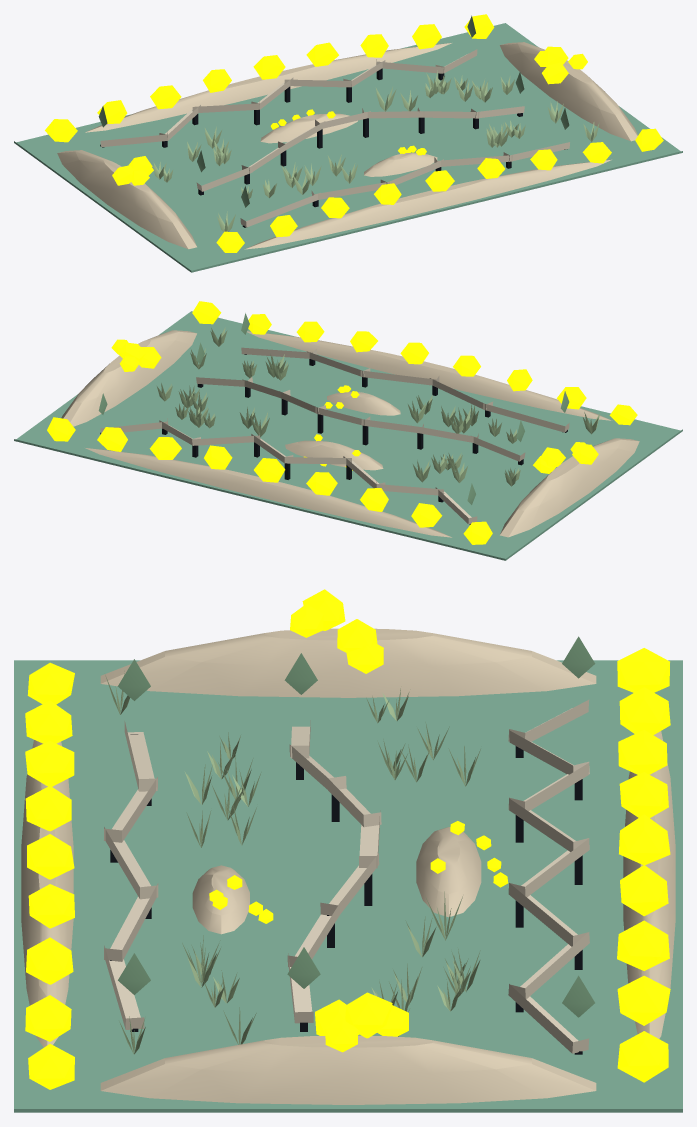
The picture shows the model from 3 angles, top to bottom: view 1: azimuth 30°, elevation 25°; view 2: azimuth 150°, elevation 25°; view 3: azimuth 270°, elevation 25°; orthographic projection. The views are drawn at different scales.
Parts seen in each view (by area): view 1: Safety_Pad, Terrain, Foliage, Balance_Beam, Grass_Tufts, Balance_Beam_Posts, Balance_Beam_Crests; view 2: Safety_Pad, Terrain, Foliage, Balance_Beam, Grass_Tufts, Balance_Beam_Posts, Balance_Beam_Crests; view 3: Safety_Pad, Terrain, Foliage, Balance_Beam, Grass_Tufts, Balance_Beam_Crests, Balance_Beam_Posts.
Boxes of the visible parts, <box> form: Safety_Pad: <box>14,23,682,272</box>; Terrain: <box>57,42,637,249</box>; Foliage: <box>45,14,663,252</box>; Balance_Beam: <box>100,49,569,227</box>; Grass_Tufts: <box>152,70,599,231</box>; Balance_Beam_Posts: <box>100,68,567,227</box>; Balance_Beam_Crests: <box>98,15,569,207</box>; Safety_Pad: <box>14,311,682,560</box>; Terrain: <box>61,330,639,537</box>; Foliage: <box>47,301,637,544</box>; Balance_Beam: <box>100,347,569,524</box>; Grass_Tufts: <box>157,327,600,486</box>; Balance_Beam_Posts: <box>100,354,567,524</box>; Balance_Beam_Crests: <box>98,313,569,504</box>; Safety_Pad: <box>14,660,682,1112</box>; Terrain: <box>21,628,675,1104</box>; Foliage: <box>25,589,670,1089</box>; Balance_Beam: <box>104,699,589,1053</box>; Grass_Tufts: <box>105,671,480,1054</box>; Balance_Beam_Crests: <box>117,636,595,1017</box>; Balance_Beam_Posts: <box>110,734,582,1054</box>.
Size of what is drawn, in the model's own units: 8 by 0.716 by 5.
7 materials, 1 textured.
